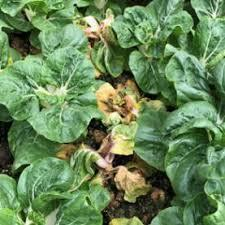Bok-Choy-Diseased: (96, 80, 144, 126)
